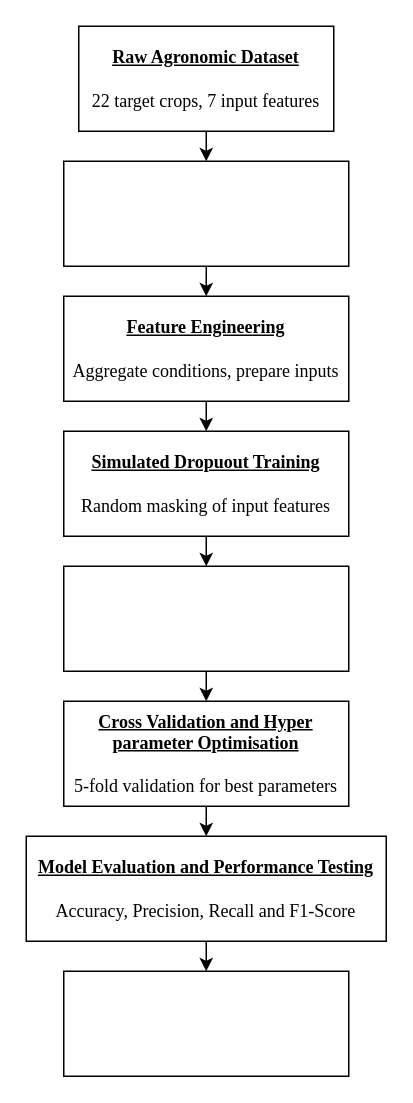
The diagram is 413 pixels wide and 1103 high, and some of its shapes have lost their labels. The shapes that lost their labels are listed below. From the top down, each one's centre as x and y in pixels, then its label:
the point at 205,213: Data Cleansing and Normalisation Remove noise, scale numerical values
the point at 205,618: Multiclass Classifier Training 22-crop classification using tuned model
the point at 205,1023: Final Model Serialisation Save model and Label encoders
